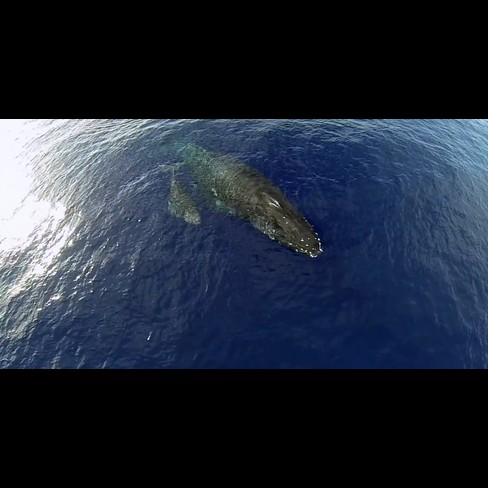hump: (156, 123, 334, 262), (153, 155, 206, 228)
